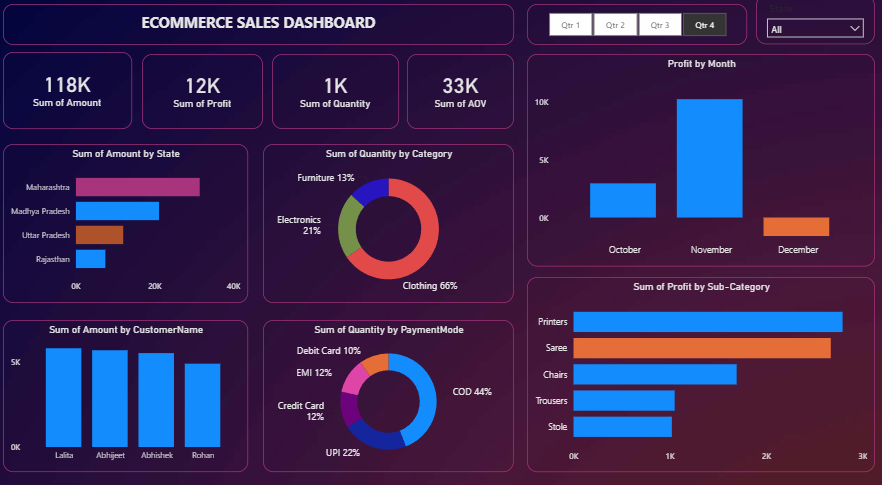

The dashboard page shown, as its layout file describes it:
{"tool":"powerbi","page":{"name":"Page 1","canvas":[1280,720],"ordinal":0},"visuals":[{"type":"textbox","box":[10.1,13,735.8,59],"z":0},{"type":"columnChart","title":"Profit by Month","fields":{"Y":["Sum(Details.Profit)"],"Category":["Orders.Order Date.Variation.Date Hierarchy.Month"]},"box":[764.3,84.3,501.4,305.7],"z":1000},{"type":"barChart","fields":{"Category":["Details.Sub-Category"],"Y":["Sum(Details.Profit)"]},"box":[764.3,405.7,501.4,281.4],"z":2000},{"type":"donutChart","fields":{"Category":["Details.Category"],"Y":["Sum(Details.Quantity)"]},"box":[384.3,214.3,361.4,228.6],"z":3000},{"type":"donutChart","fields":{"Category":["Details.PaymentMode","Details.Category"],"Y":["Sum(Details.Quantity)"]},"box":[384.5,468,361.4,218.9],"z":4000},{"type":"cardVisual","fields":{"Data":["Sum(Details.Amount)"]},"box":[10.1,82.1,185.8,110.9],"z":5000},{"type":"cardVisual","fields":{"Data":["Sum(Details.Profit)"]},"box":[210.2,85,174.2,108],"z":6000},{"type":"cardVisual","fields":{"Data":["Sum(Details.Quantity)"]},"box":[397.4,85,182.9,108],"z":7000},{"type":"cardVisual","fields":{"Data":["Sum(Details.AOV)"]},"box":[591.8,85,154.1,108],"z":8000},{"type":"barChart","fields":{"Y":["Sum(Details.Amount)"],"Category":["Orders.State"]},"box":[10,214.3,352.9,228.6],"z":9000},{"type":"columnChart","fields":{"Category":["Orders.CustomerName"],"Y":["Sum(Details.Amount)"]},"box":[10.1,468,352.8,218.9],"z":10000},{"type":"slicer","fields":{"Values":["Orders.Order Date.Variation.Date Hierarchy.Quarter"]},"box":[764.3,12.9,317.1,58.6],"z":11000},{"type":"slicer","fields":{"Values":["Orders.State"]},"box":[1094.3,0,171.4,71.4],"z":12000}]}

Visuals, with their boxes in screenshot pixels (x1, y1, x2, y2), scaled from the page's 1280x720 canvas onto the 882x485 screenshot:
textbox: x1=7, y1=9, x2=514, y2=48
"Profit by Month" columnChart: x1=527, y1=57, x2=872, y2=263
barChart - Details.Sub-Category x Sum(Details.Profit): x1=527, y1=273, x2=872, y2=463
donutChart - Details.Category x Sum(Details.Quantity): x1=265, y1=144, x2=514, y2=298
donutChart - Details.PaymentMode x Details.Category: x1=265, y1=315, x2=514, y2=463
cardVisual - Sum(Details.Amount): x1=7, y1=55, x2=135, y2=130
cardVisual - Sum(Details.Profit): x1=145, y1=57, x2=265, y2=130
cardVisual - Sum(Details.Quantity): x1=274, y1=57, x2=400, y2=130
cardVisual - Sum(Details.AOV): x1=408, y1=57, x2=514, y2=130
barChart - Sum(Details.Amount) x Orders.State: x1=7, y1=144, x2=250, y2=298
columnChart - Orders.CustomerName x Sum(Details.Amount): x1=7, y1=315, x2=250, y2=463
slicer - Orders.Order Date.Variation.Date Hierarchy.Quarter: x1=527, y1=9, x2=745, y2=48
slicer - Orders.State: x1=754, y1=0, x2=872, y2=48
